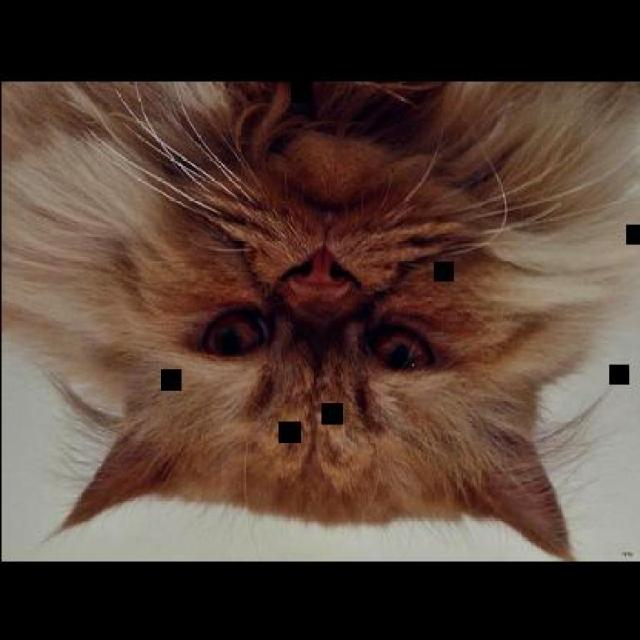unauthorized: (0, 76, 638, 558)
